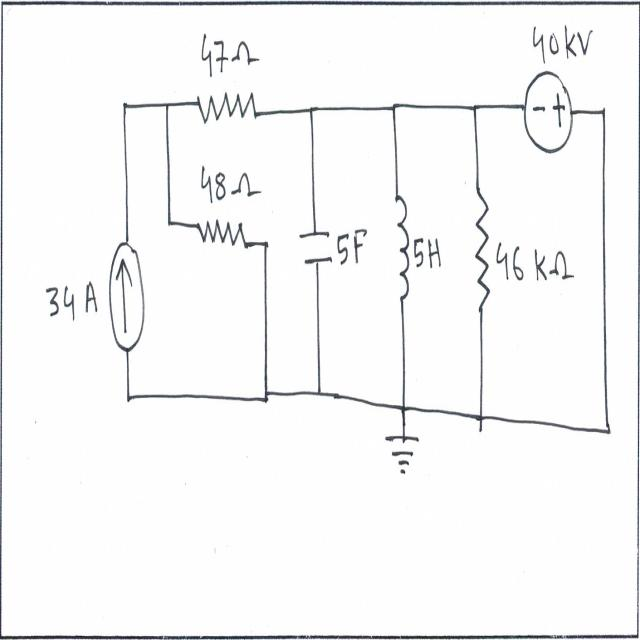capacitor: (297, 216, 336, 276)
current_source: (105, 237, 146, 358)
ground: (383, 423, 420, 485)
inductor: (390, 192, 413, 314)
resistor: (471, 182, 492, 330), (190, 84, 260, 128), (193, 209, 250, 259)
voltage_source: (515, 65, 580, 157)
